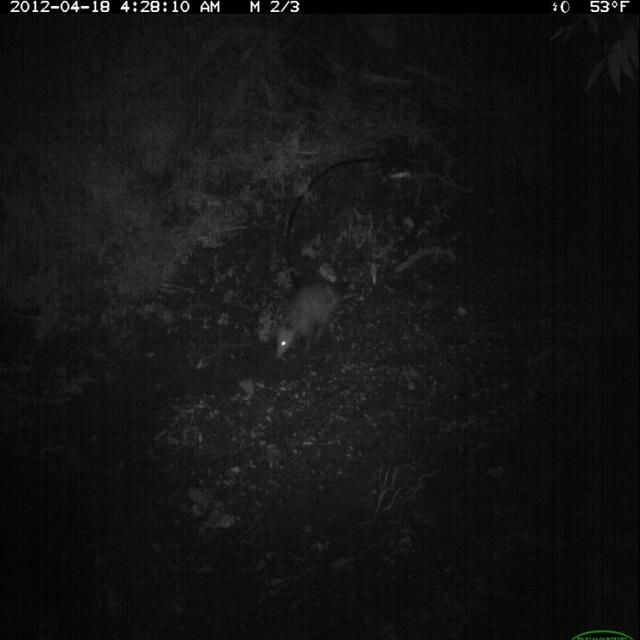opossum: (271, 276, 369, 367)
